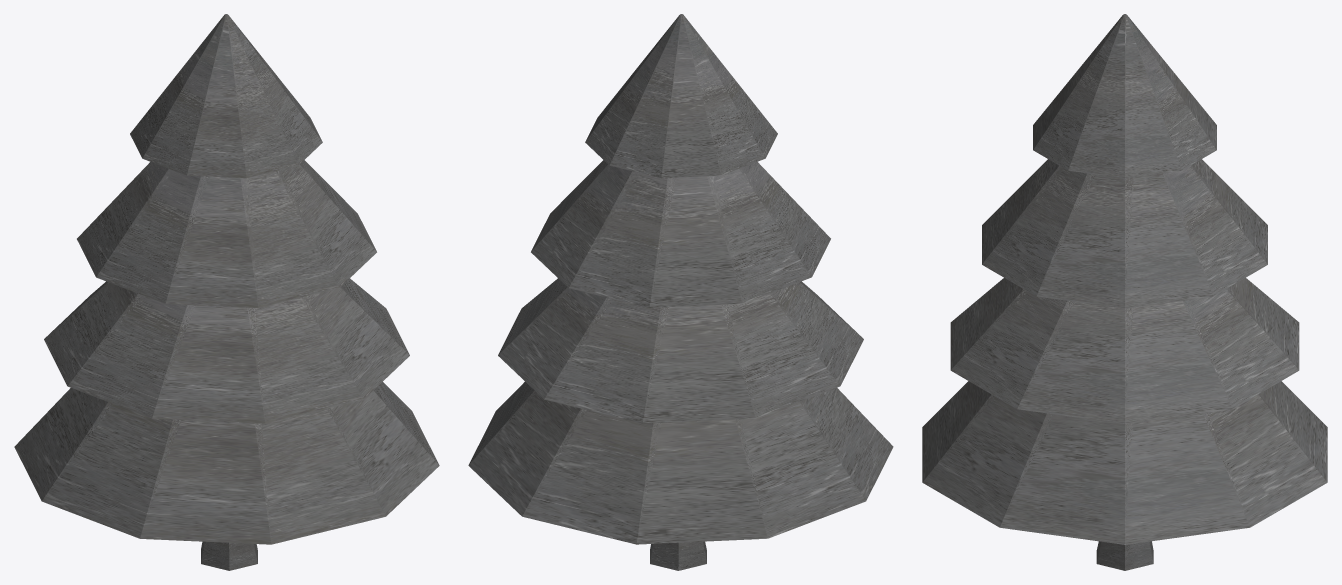
The model's file is PineTree02.fbx.
The picture shows the model from 3 angles, left to right: view 1: azimuth 30°, elevation 25°; view 2: azimuth 150°, elevation 25°; view 3: azimuth 270°, elevation 25°; orthographic projection.
Visible parts, largest first — view 1: pCylinder20, pCylinder19, pCylinder18, pCylinder17, pCylinder21; view 2: pCylinder20, pCylinder19, pCylinder18, pCylinder17, pCylinder21; view 3: pCylinder20, pCylinder19, pCylinder18, pCylinder17, pCylinder21.
Part boxes in pixels (x1,y1,x2,y2): pCylinder20: [14, 382, 439, 544]; pCylinder19: [44, 278, 409, 423]; pCylinder18: [77, 160, 376, 307]; pCylinder17: [130, 14, 322, 178]; pCylinder21: [201, 541, 257, 570]; pCylinder20: [468, 382, 893, 544]; pCylinder19: [498, 278, 863, 423]; pCylinder18: [531, 160, 830, 307]; pCylinder17: [585, 14, 777, 178]; pCylinder21: [650, 541, 706, 570]; pCylinder20: [922, 381, 1327, 544]; pCylinder19: [950, 278, 1299, 423]; pCylinder18: [982, 159, 1267, 308]; pCylinder17: [1033, 14, 1216, 178]; pCylinder21: [1096, 541, 1153, 570].
Size of the model in its own units: 2.58 by 3.62 by 2.46.
